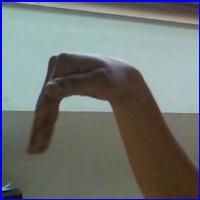A: (25, 48, 158, 165)
